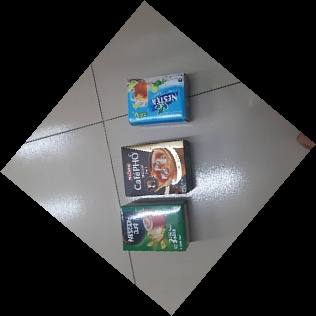CF pho: (120, 138, 194, 199)
Nes Rang: (117, 201, 196, 254)
Nestea: (125, 72, 193, 125)
